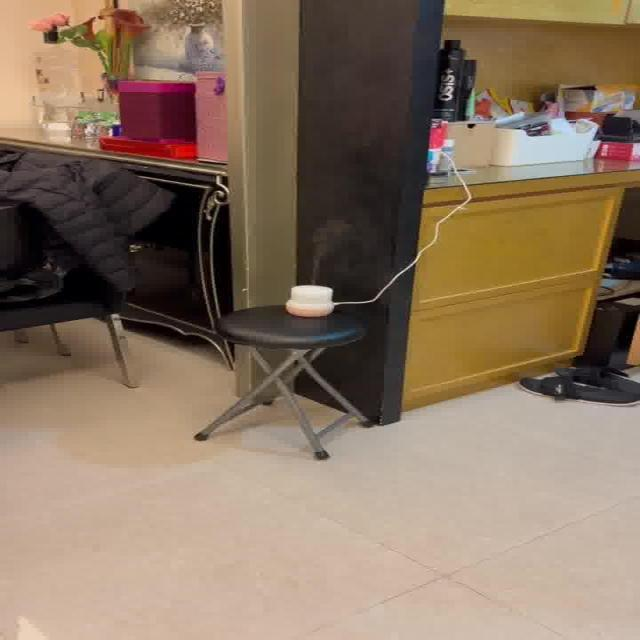fire: (304, 219, 374, 279)
